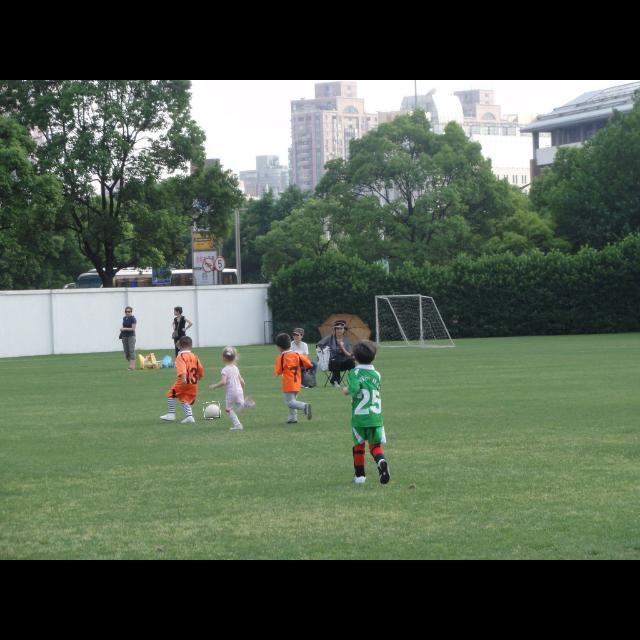Football: (204, 402, 220, 418)
